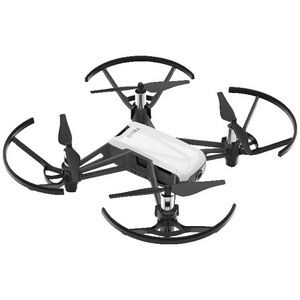drone: (2, 54, 298, 247)
